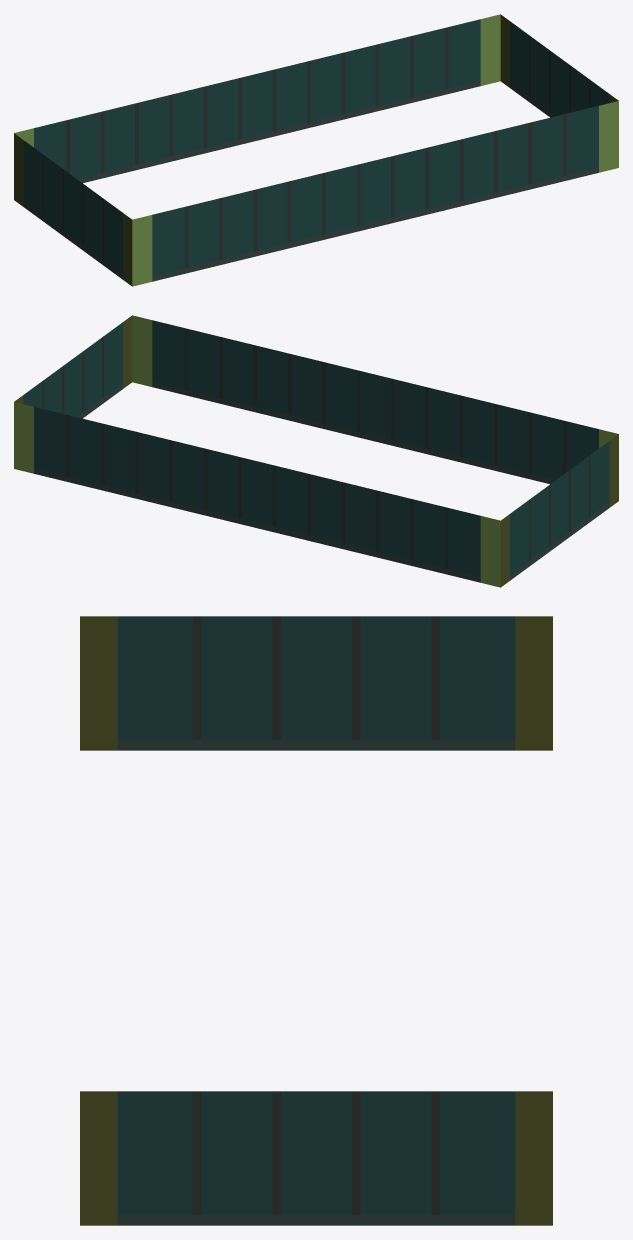
File: TB_CITY_Skysc_C_BodyC_Green.FBX
3 views of the same model, one above another, from view 1: azimuth 30°, elevation 25°; view 2: azimuth 150°, elevation 25°; view 3: azimuth 270°, elevation 25° (orthographic). The views are drawn at different scales.
Visible parts, largest first — view 1: TB_CITY_Skysc_C_BodyC_Green; view 2: TB_CITY_Skysc_C_BodyC_Green; view 3: TB_CITY_Skysc_C_BodyC_Green.
Part boxes in pixels (x1,y1,x2,y2): TB_CITY_Skysc_C_BodyC_Green: [14, 14, 618, 286]; TB_CITY_Skysc_C_BodyC_Green: [14, 315, 618, 587]; TB_CITY_Skysc_C_BodyC_Green: [80, 616, 552, 1225].
Bounding box in the file's own units: 38 × 5 × 16.
